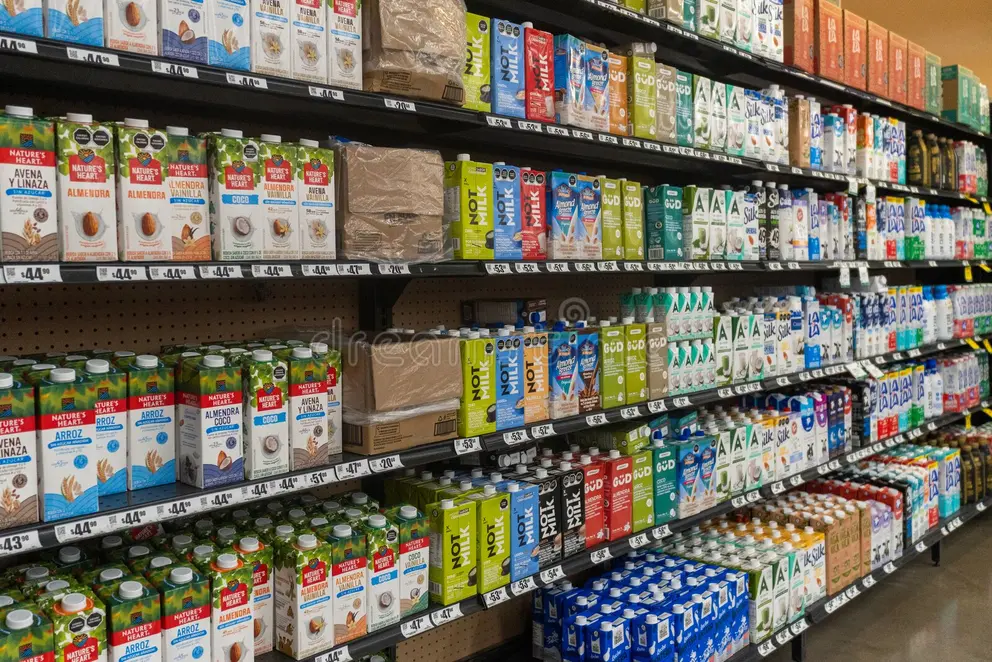milk: (180, 355, 241, 487), (116, 119, 170, 260), (444, 154, 492, 258), (525, 22, 552, 122), (494, 164, 520, 259)
